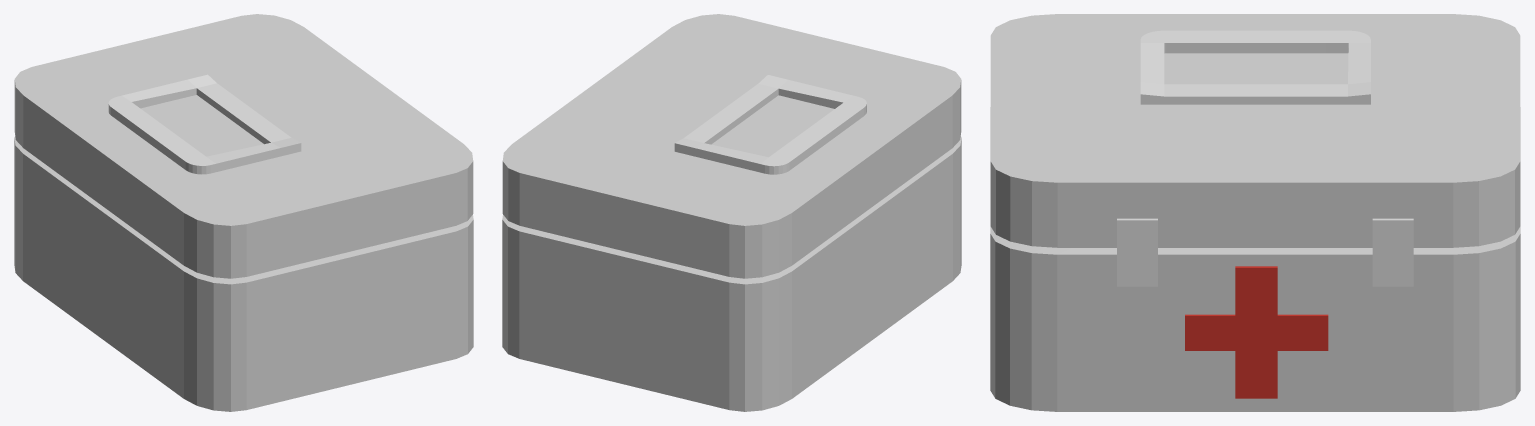
The picture shows the model from 3 angles, left to right: view 1: azimuth 30°, elevation 25°; view 2: azimuth 150°, elevation 25°; view 3: azimuth 270°, elevation 25°; orthographic projection. The views are drawn at different scales.
Parts seen in each view (by area): view 1: Plane.003, Cube.002; view 2: Plane.003, Cube.002; view 3: Plane.003, Cube.002, Plane.002, Cube, Cube.001.
Boxes of the visible parts, bbox=[...] form: Plane.003: bbox=[14, 14, 473, 411]; Cube.002: bbox=[108, 74, 301, 174]; Plane.003: bbox=[502, 14, 961, 411]; Cube.002: bbox=[674, 75, 866, 174]; Plane.003: bbox=[990, 14, 1520, 411]; Cube.002: bbox=[1140, 30, 1370, 104]; Plane.002: bbox=[1185, 266, 1328, 398]; Cube: bbox=[1372, 218, 1413, 286]; Cube.001: bbox=[1117, 218, 1157, 286].
Size of the model in its own units: 152 by 99.72 by 200.
